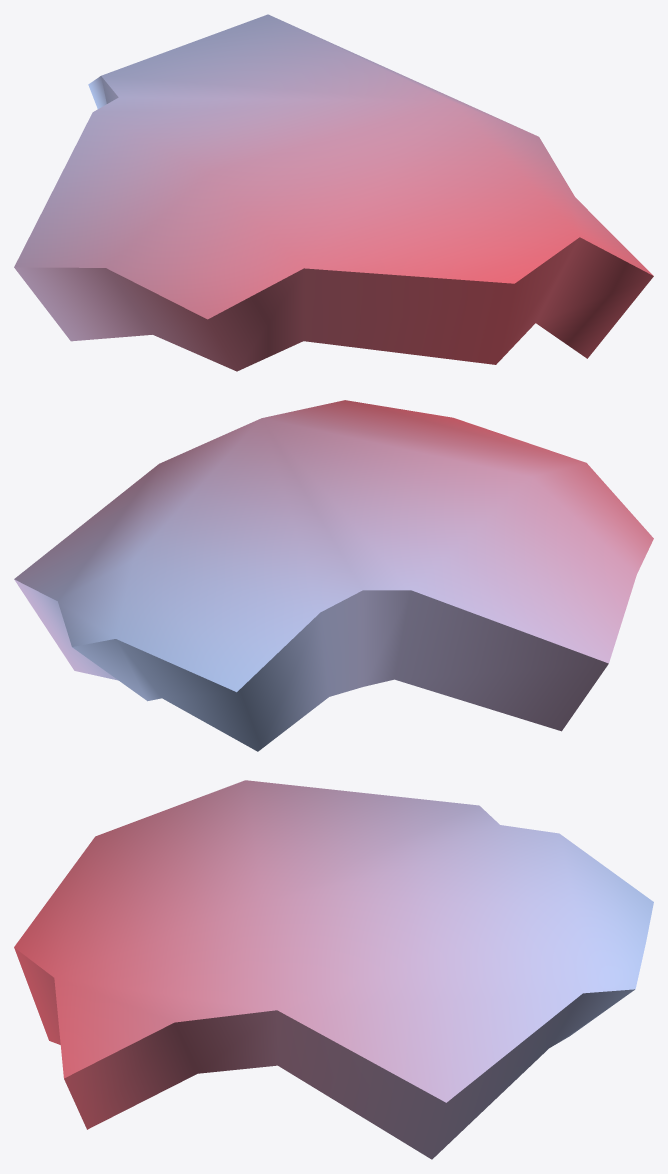
Rendered from Egg_Particle_Red_002.fbx.
3 renders of one model, top to bottom at view 1: azimuth 30°, elevation 25°; view 2: azimuth 150°, elevation 25°; view 3: azimuth 270°, elevation 25°, orthographic. The views are drawn at different scales.
Visible parts, largest first — view 1: Egg_Particle_Red_002; view 2: Egg_Particle_Red_002; view 3: Egg_Particle_Red_002.
Boxes of the visible parts, box(x1,y1,x2,y2) form: Egg_Particle_Red_002: box(14, 14, 653, 371); Egg_Particle_Red_002: box(14, 400, 653, 751); Egg_Particle_Red_002: box(14, 780, 653, 1159).
Bounding box in the file's own units: 1.52 × 0.5616 × 1.55.
